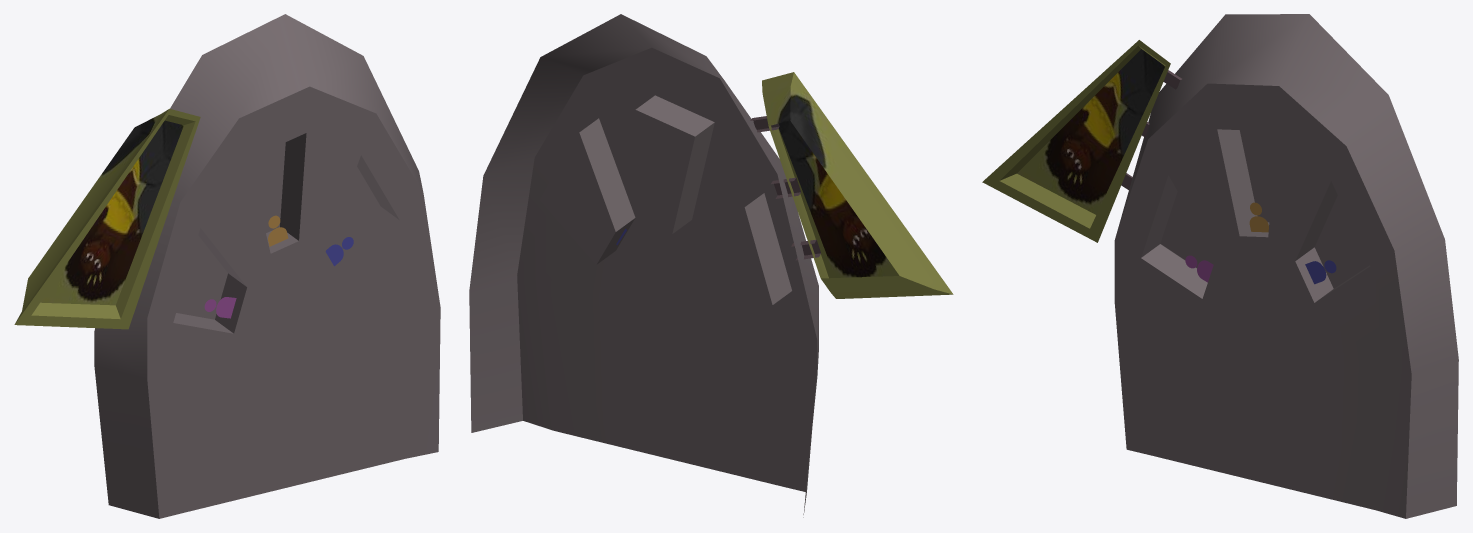
The model's file is Building3WithSign.fbx.
The picture shows the model from 3 angles, left to right: view 1: azimuth 30°, elevation 25°; view 2: azimuth 150°, elevation 25°; view 3: azimuth 330°, elevation 25°; orthographic projection. The views are drawn at different scales.
Visible parts, largest first — view 1: BuildingAndSign3, Sign1; view 2: BuildingAndSign3, Sign1; view 3: BuildingAndSign3, Sign1.
Boxes of the visible parts, left/top/right/bottom form: BuildingAndSign3: left=94, top=14, right=440, bottom=518; Sign1: left=14, top=108, right=200, bottom=329; BuildingAndSign3: left=469, top=14, right=818, bottom=517; Sign1: left=750, top=72, right=953, bottom=298; BuildingAndSign3: left=1114, top=14, right=1458, bottom=518; Sign1: left=982, top=40, right=1181, bottom=242.
Bounding box in the file's own units: 18.94 × 18.15 × 2.14.
